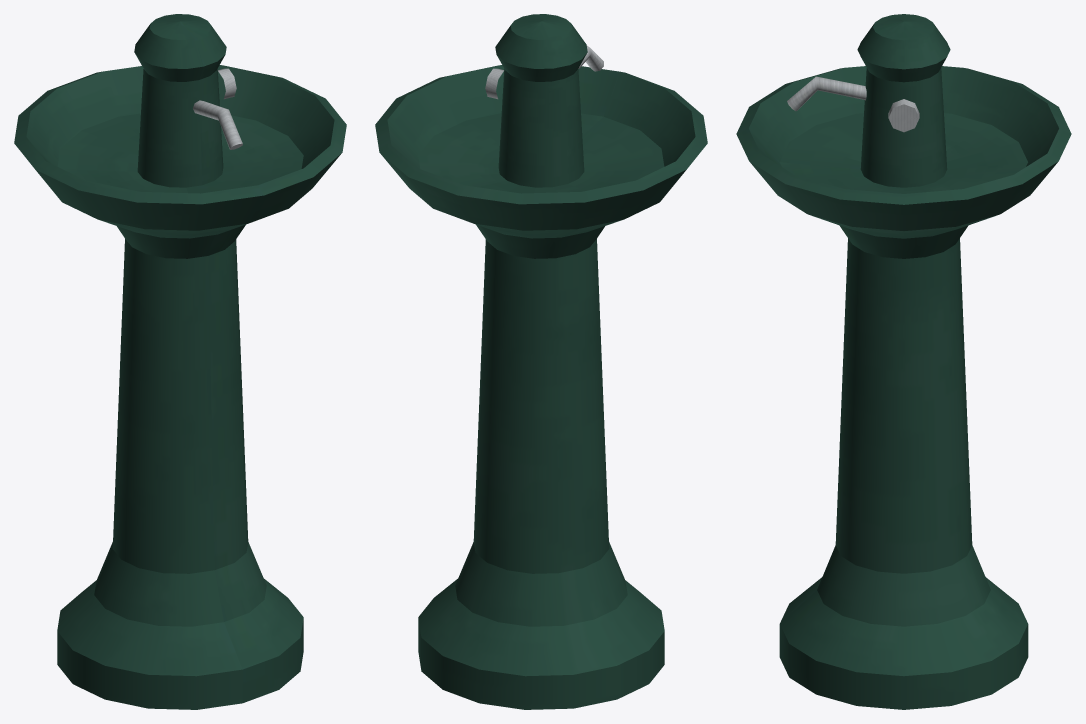
The model's file is fontaine_eau_lod0.glb.
3 views of the same model, side by side, from view 1: azimuth 30°, elevation 25°; view 2: azimuth 150°, elevation 25°; view 3: azimuth 270°, elevation 25° (orthographic).
Parts seen in each view (by area): view 1: fontaine_eau; view 2: fontaine_eau; view 3: fontaine_eau.
Part boxes in pixels (left/top/right/bottom): fontaine_eau: left=14, top=14, right=346, bottom=709; fontaine_eau: left=375, top=14, right=707, bottom=709; fontaine_eau: left=736, top=14, right=1071, bottom=709.
Size of the model in its own units: 0.54 by 1.13 by 0.54.
Materials: 1 (1 with a texture image).
